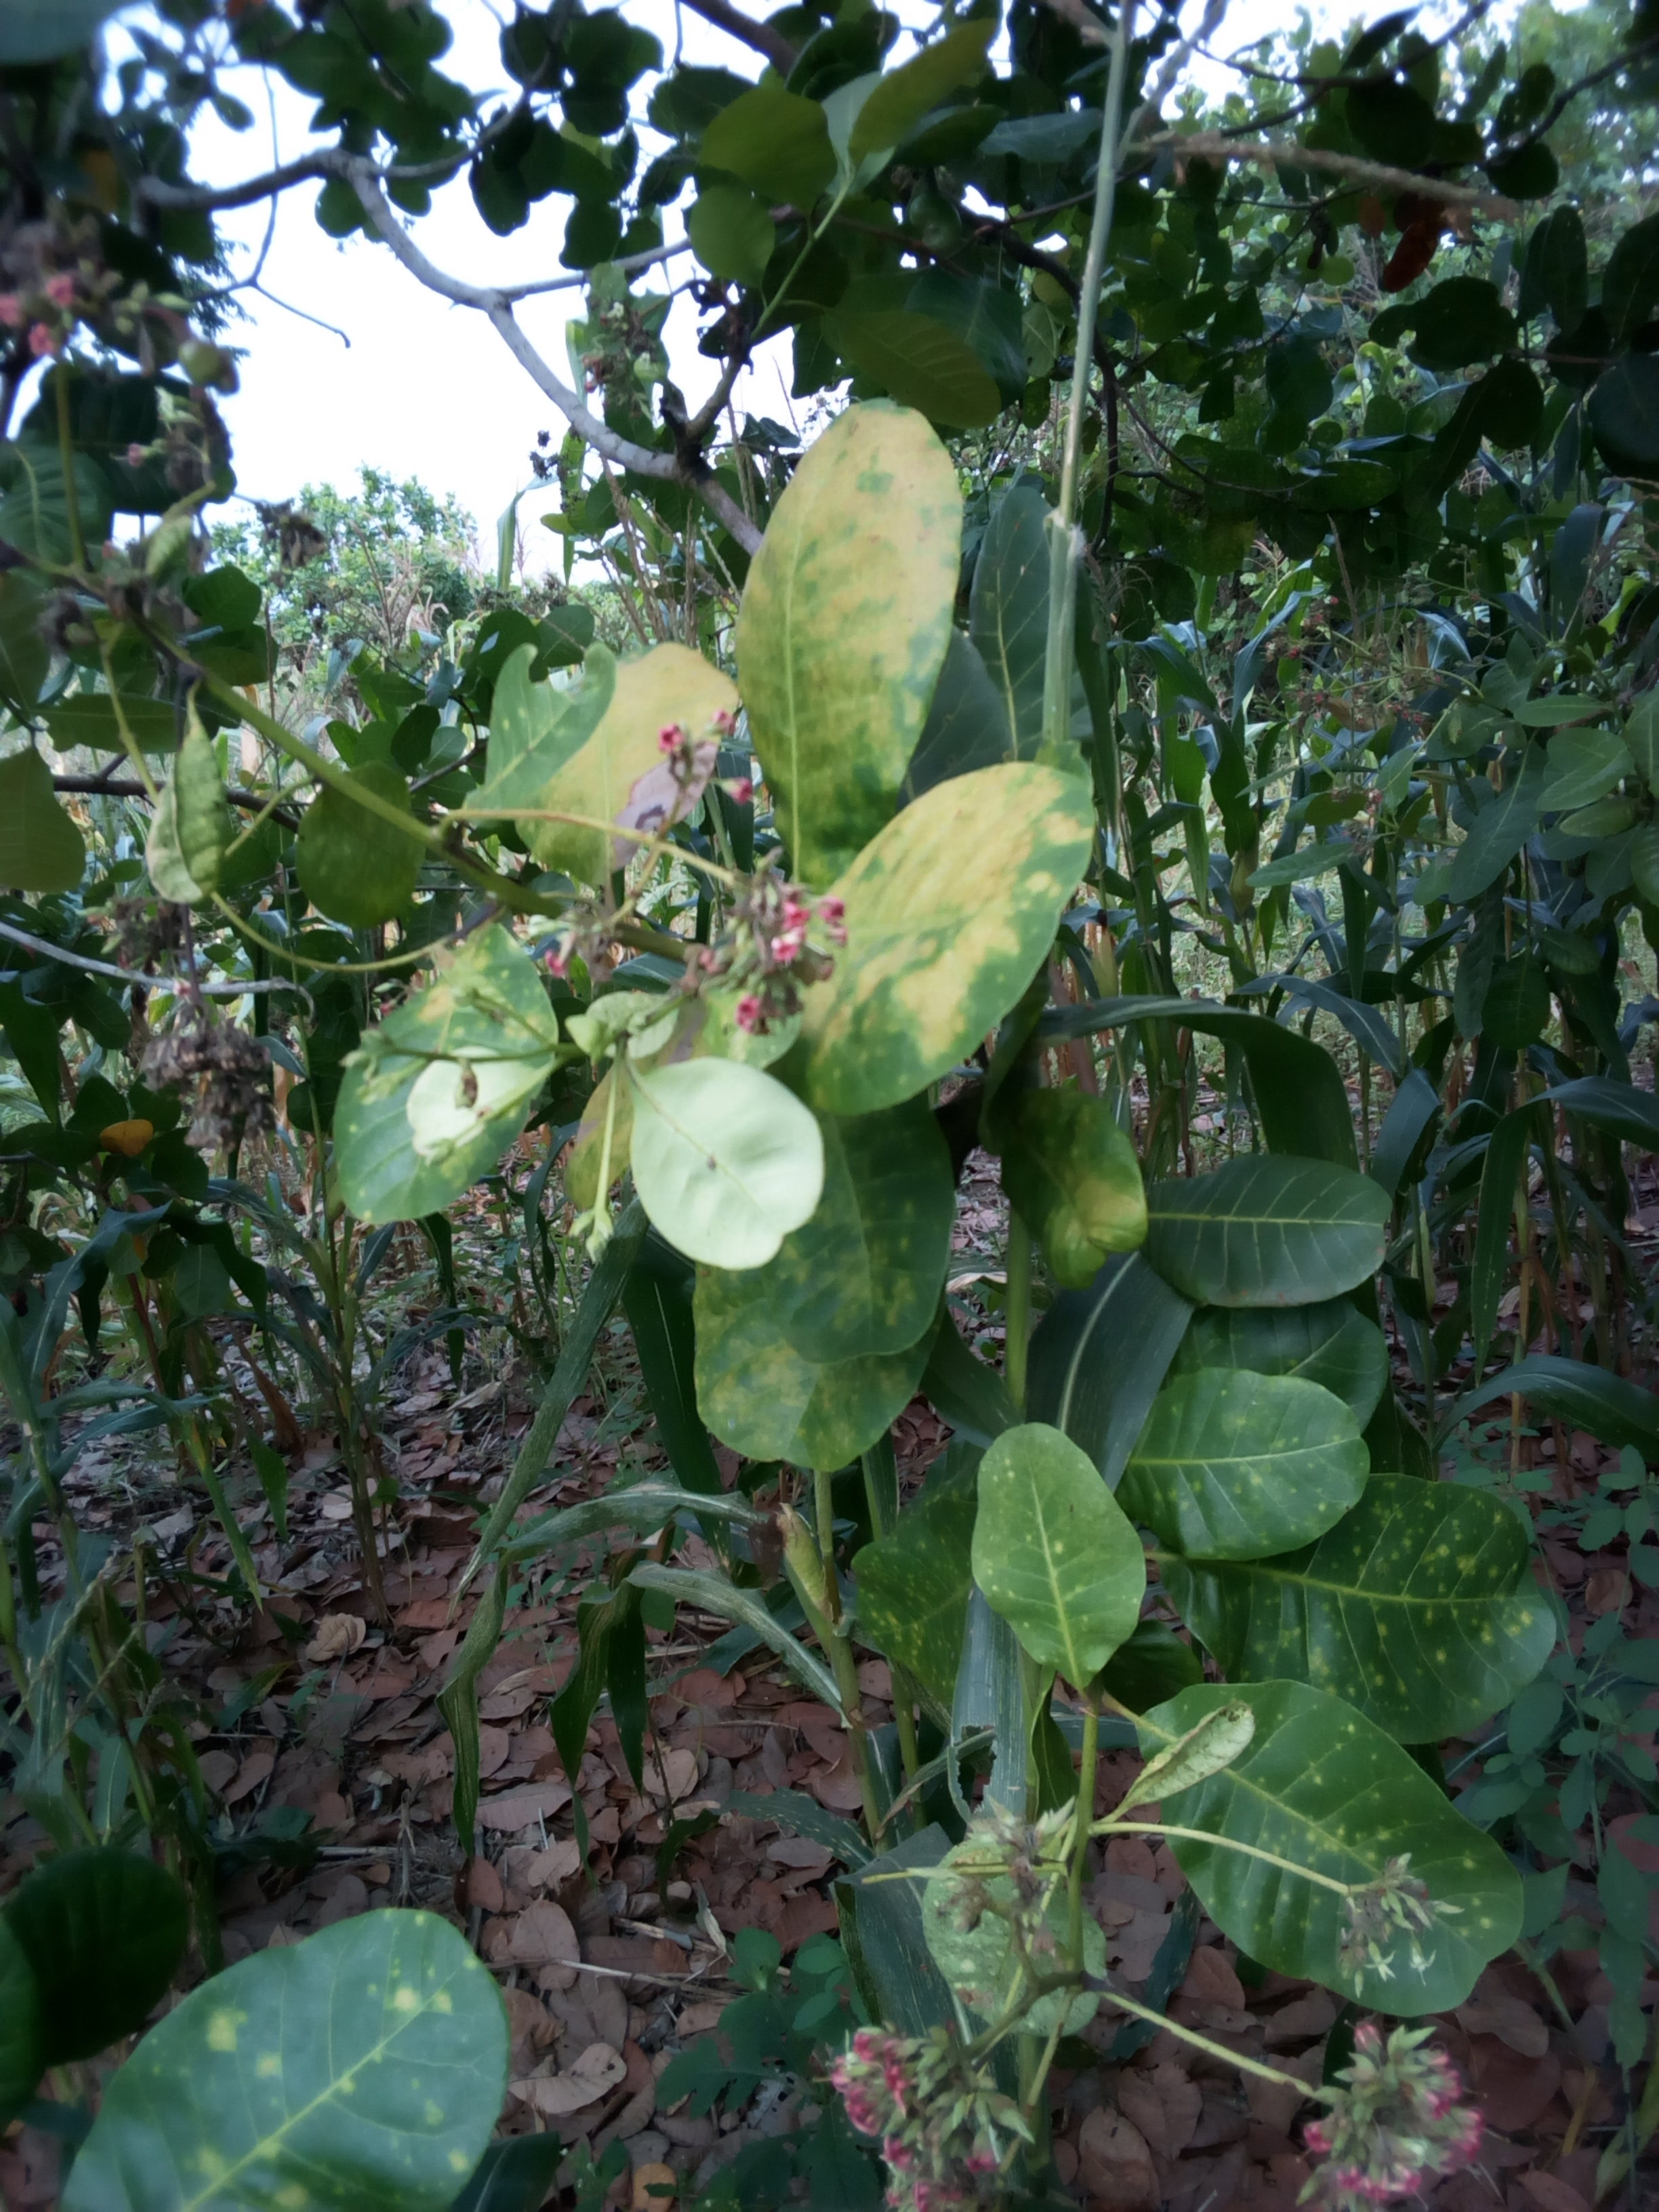Carence minérale: (1077, 1669, 1541, 2020), (711, 394, 1046, 838), (786, 751, 1152, 1130), (305, 895, 554, 1238), (955, 1404, 1182, 1693), (497, 632, 721, 892), (619, 1062, 847, 1296), (676, 1275, 931, 1468), (1131, 1374, 1399, 1557), (992, 1096, 1188, 1275)
